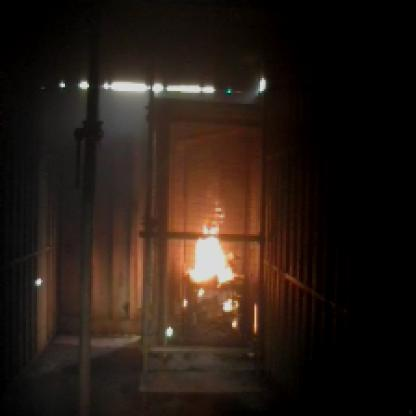Fire: (184, 212, 241, 312)
